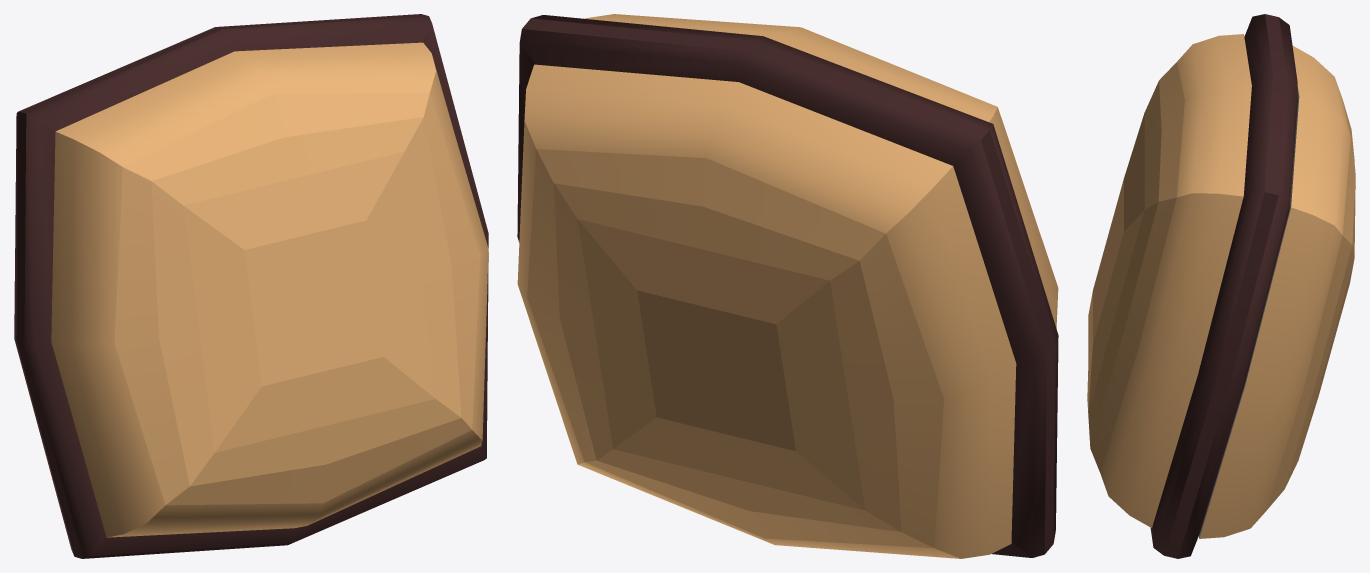
File: Hamburguer.fbx
The picture shows the model from 3 angles, left to right: view 1: azimuth 30°, elevation 25°; view 2: azimuth 150°, elevation 25°; view 3: azimuth 270°, elevation 25°; orthographic projection. The views are drawn at different scales.
Parts seen in each view (by area): view 1: Hamburguer:Hamburguer; view 2: Hamburguer:Hamburguer; view 3: Hamburguer:Hamburguer.
Part boxes in pixels (<box>): Hamburguer:Hamburguer: <box>14,14,488,558</box>; Hamburguer:Hamburguer: <box>517,14,1058,558</box>; Hamburguer:Hamburguer: <box>1087,14,1355,558</box>.
Size of the model in its own units: 1.47 by 1.43 by 0.8176.
